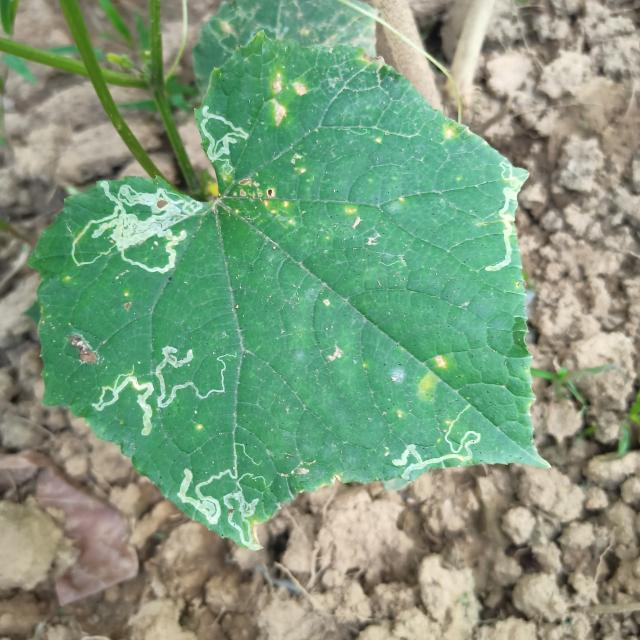disease_cucumber: (236, 175, 298, 228), (264, 69, 307, 127), (408, 352, 452, 407)
